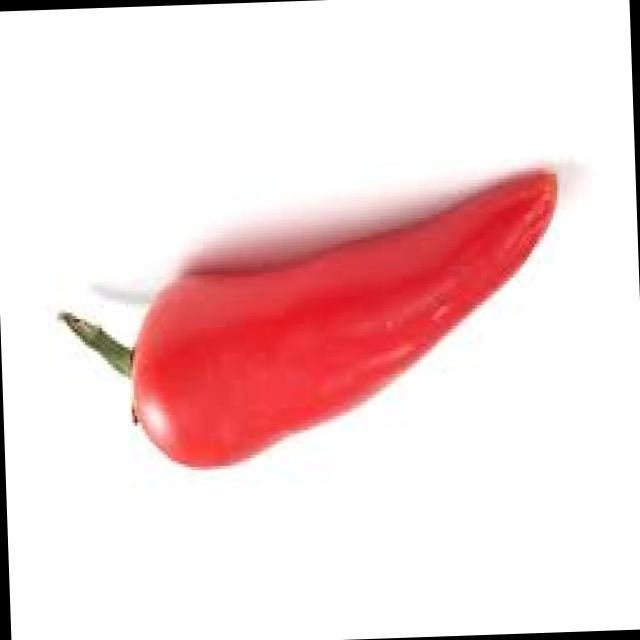Chili: (19, 143, 594, 502)
